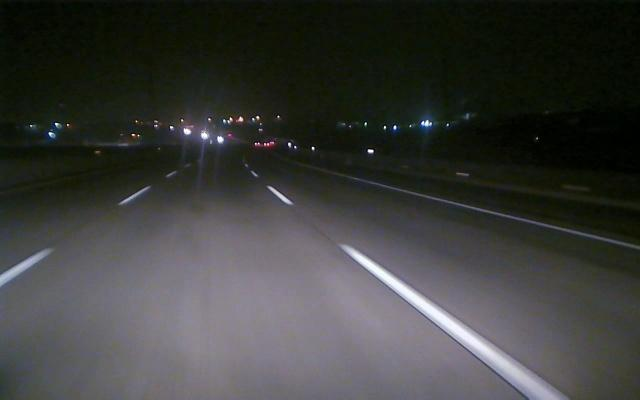lane: (266, 185, 570, 399), (350, 177, 640, 251), (1, 190, 144, 285)
